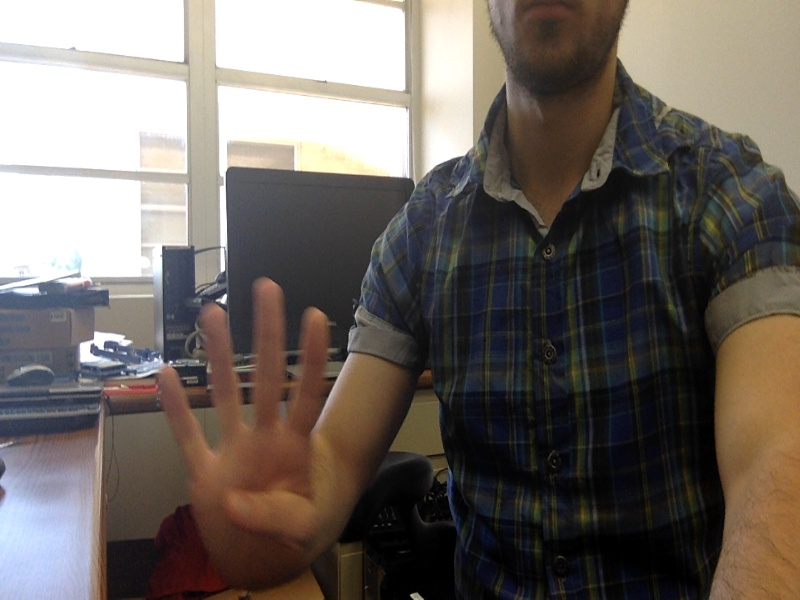4-hand: (150, 277, 330, 586)
